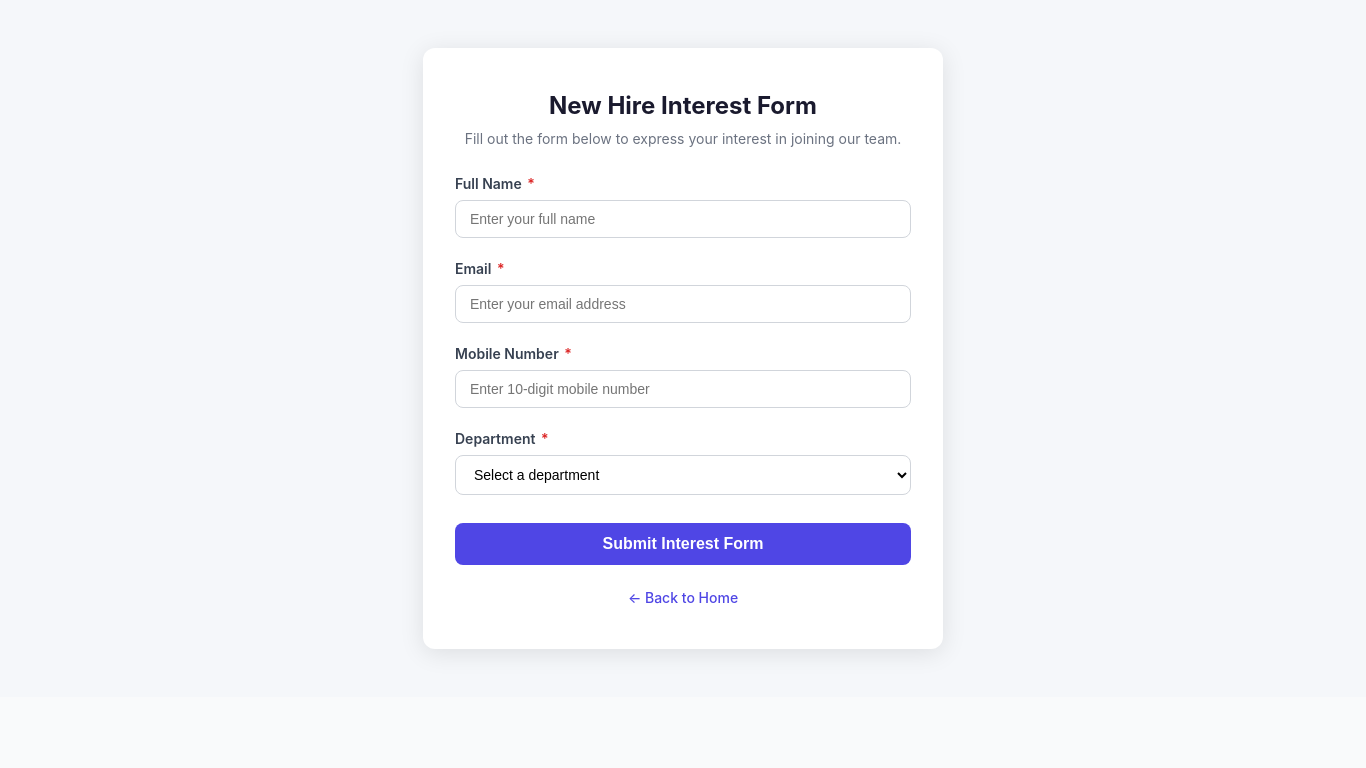
Test: InterestForm › validation errors › shows error for invalid name with numbers
Type "John123" into the field labelled "Full Name *" at (683, 219), box [455,200,911,238]
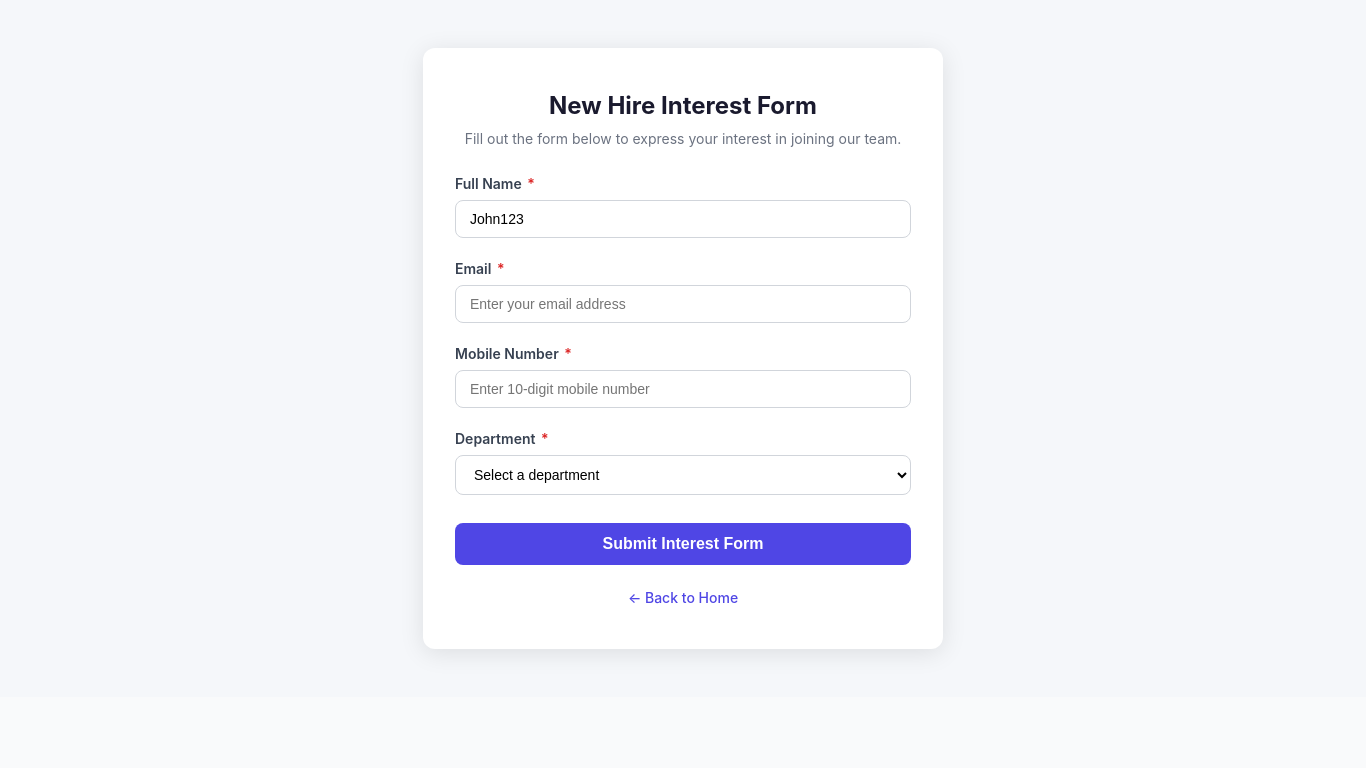
Click the button "Submit Interest Form" at (683, 544), box [455,523,911,565]
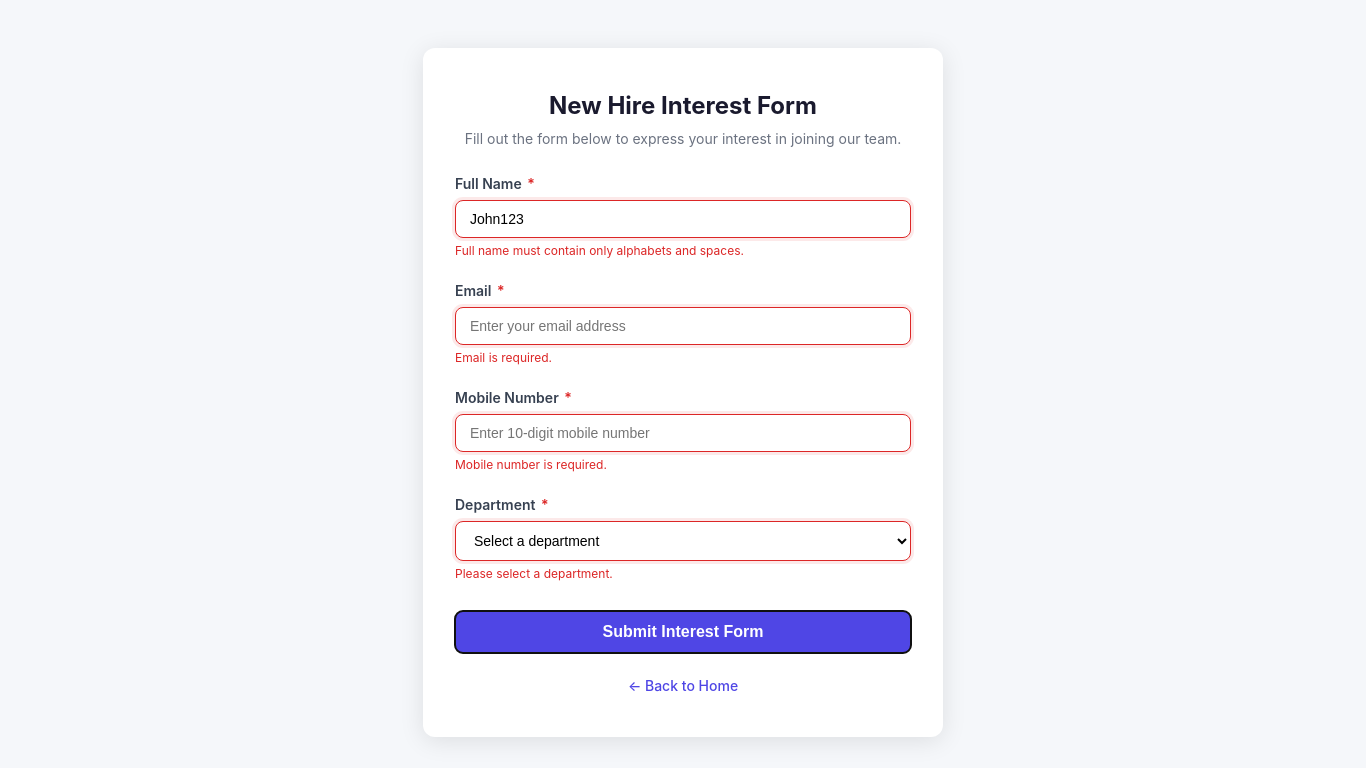
Expected: the text "Full name must contain only alphabets and spaces." is shown, [455,243,744,258]
